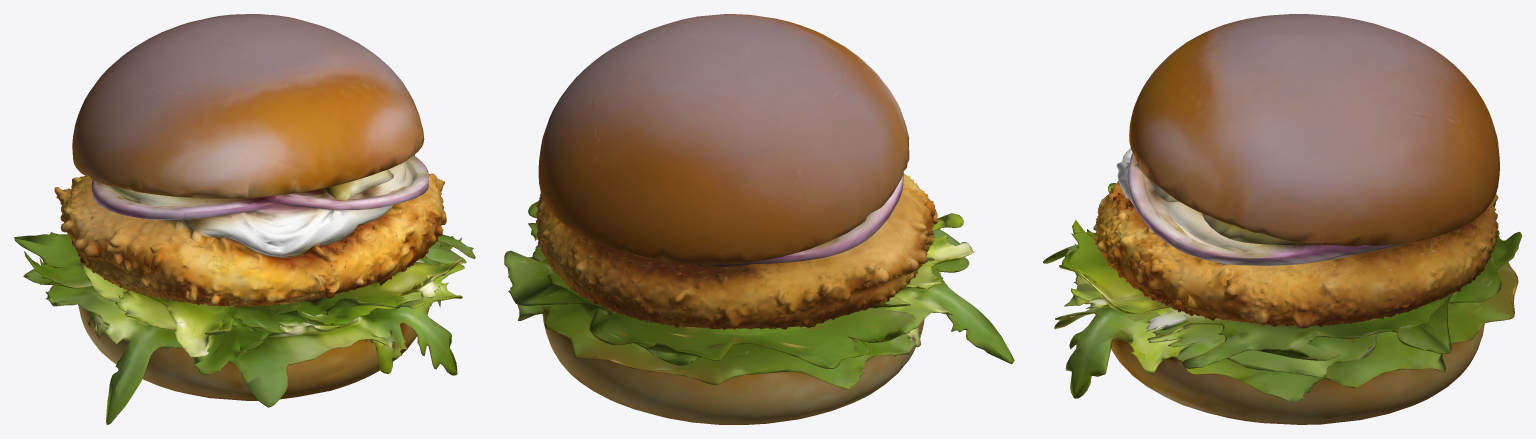
File: chickenburger2.glb
The picture shows the model from 3 angles, left to right: view 1: azimuth 30°, elevation 25°; view 2: azimuth 150°, elevation 25°; view 3: azimuth 270°, elevation 25°; orthographic projection. The views are drawn at different scales.
Parts seen in each view (by area): view 1: node_0; view 2: node_0; view 3: node_0.
Part boxes in pixels (x1,y1,x2,y2): node_0: (14,14,475,424); node_0: (504,14,1014,424); node_0: (1043,14,1521,424).
Size of the model in its own units: 0.9221 by 0.6561 by 0.8981.
Materials: 1 (1 with a texture image).
